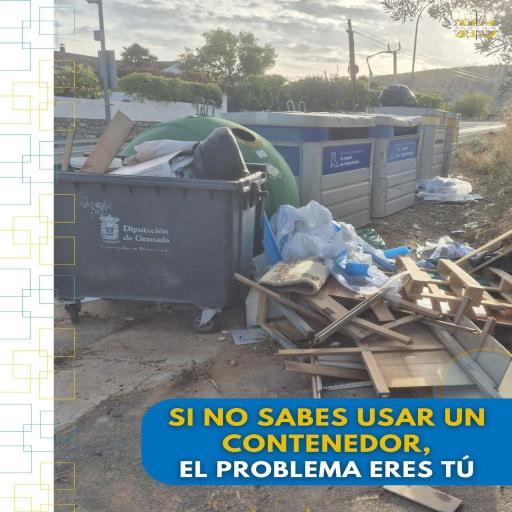Contenedor_Desbordado: (5, 105, 512, 398)
